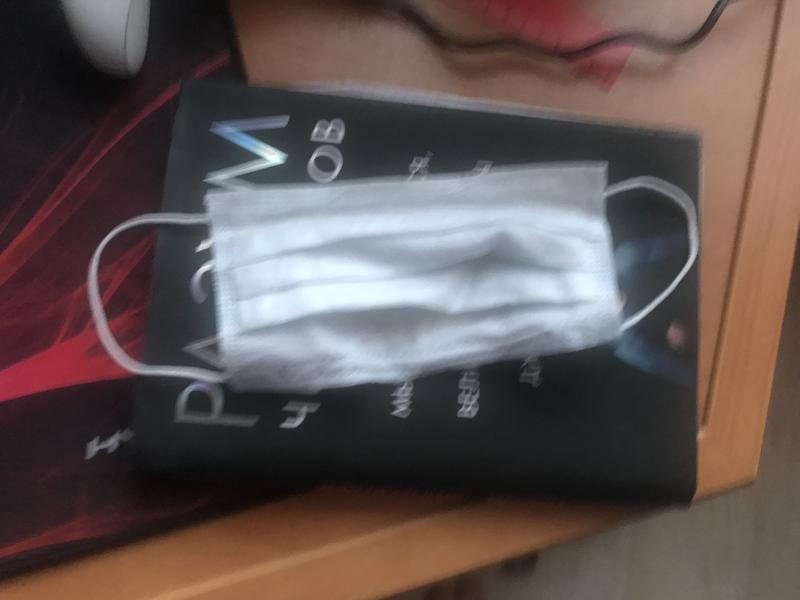medical_mask: (90, 170, 696, 389)
